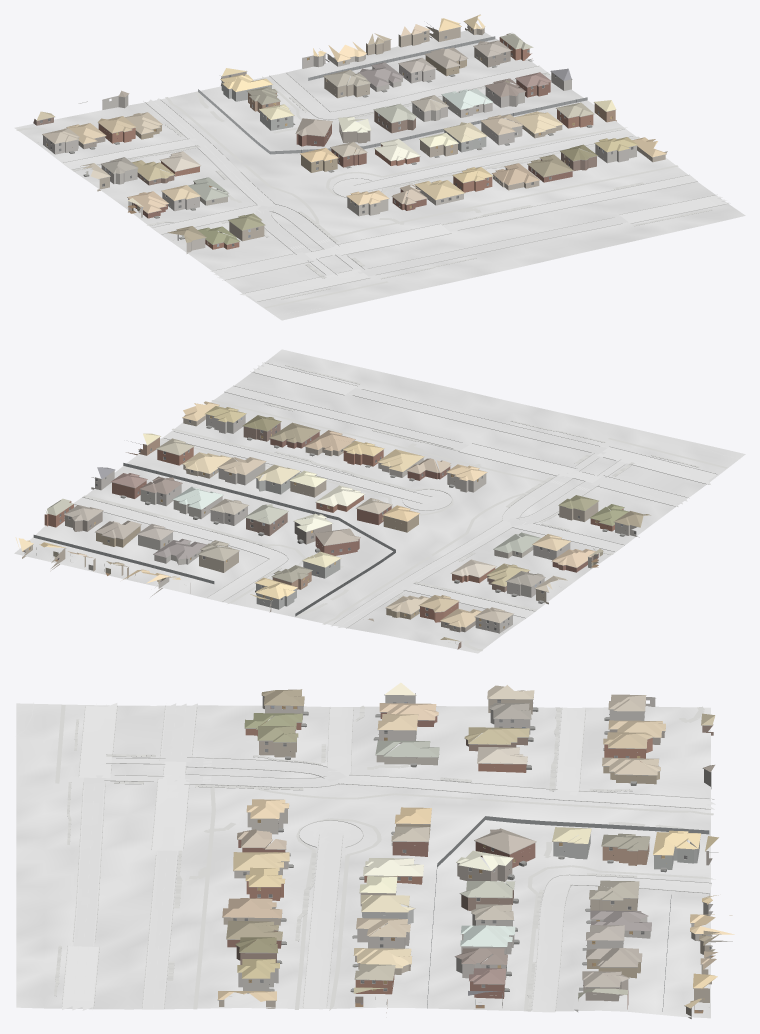
3 views of the same model, one above another, from view 1: azimuth 30°, elevation 25°; view 2: azimuth 150°, elevation 25°; view 3: azimuth 270°, elevation 25° (orthographic). The views are drawn at different scales.
Parts seen in each view (by area): view 1: ground, roof, asphalt, wall, concrete, walk, wall_stone, curb, detail, wall_stucco, chain, mark_w (+2 smaller); view 2: ground, roof, asphalt, wall, concrete, walk, curb, wall_stone, detail, wall_stucco, chain, mark_w (+2 smaller); view 3: ground, roof, asphalt, concrete, wall, walk, curb, wall_stone, detail, wall_stucco, mark_w, chain (+2 smaller).
Part boxes in pixels (bbox=[...]): ground: bbox=[14, 30, 745, 320]; roof: bbox=[36, 14, 666, 244]; asphalt: bbox=[147, 98, 729, 301]; wall: bbox=[33, 26, 616, 249]; concrete: bbox=[63, 66, 632, 234]; walk: bbox=[16, 73, 712, 308]; wall_stone: bbox=[43, 53, 636, 217]; curb: bbox=[63, 65, 727, 301]; detail: bbox=[36, 21, 666, 246]; wall_stucco: bbox=[177, 24, 667, 253]; chain: bbox=[198, 36, 587, 154]; mark_w: bbox=[146, 100, 725, 316]; ground: bbox=[14, 349, 745, 653]; roof: bbox=[15, 401, 650, 641]; asphalt: bbox=[225, 362, 716, 627]; wall: bbox=[44, 423, 623, 649]; concrete: bbox=[73, 431, 624, 617]; walk: bbox=[83, 365, 727, 651]; curb: bbox=[74, 363, 717, 628]; wall_stone: bbox=[91, 414, 591, 633]; detail: bbox=[22, 405, 635, 644]; wall_stucco: bbox=[22, 415, 639, 609]; chain: bbox=[34, 463, 395, 616]; mark_w: bbox=[233, 364, 732, 626]; ground: bbox=[16, 703, 710, 1018]; roof: bbox=[217, 682, 734, 1008]; asphalt: bbox=[62, 703, 715, 1010]; concrete: bbox=[299, 707, 711, 1012]; wall: bbox=[227, 699, 713, 1012]; walk: bbox=[54, 705, 715, 1011]; curb: bbox=[62, 703, 714, 1011]; wall_stone: bbox=[238, 693, 712, 1007]; detail: bbox=[217, 694, 721, 1011]; wall_stucco: bbox=[219, 696, 732, 1018]; mark_w: bbox=[17, 702, 713, 1009]; chain: bbox=[427, 816, 709, 1011].
Bounding box in the file's own units: 262 × 15.95 × 264.
